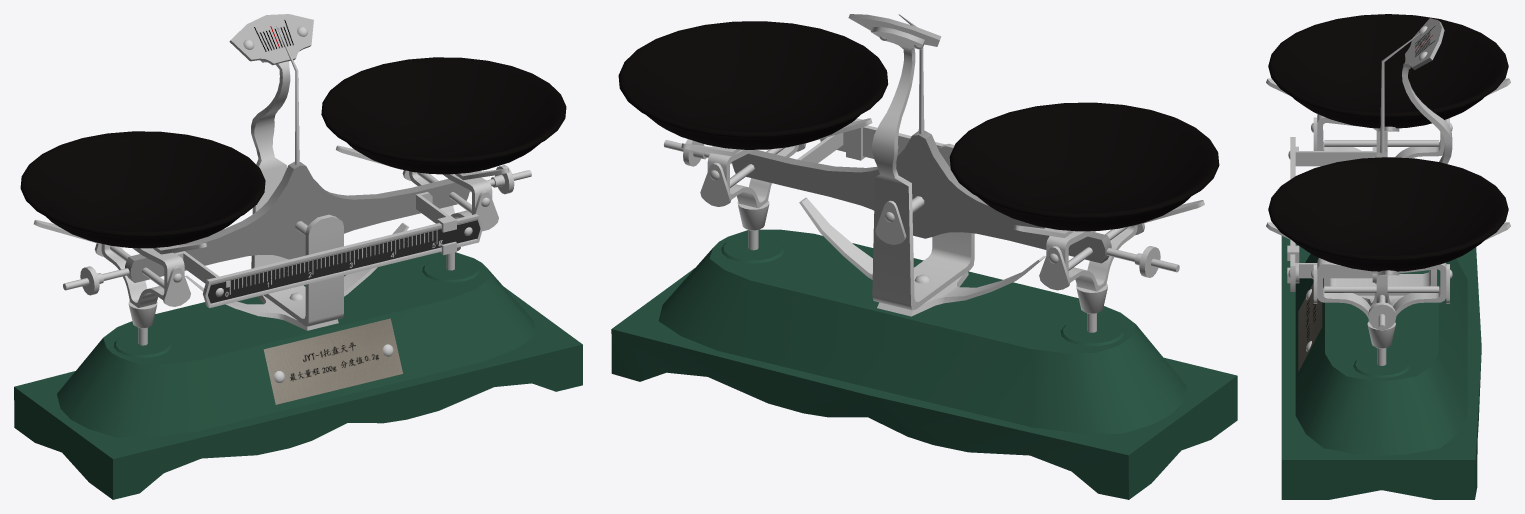
The model's file is balance.glb.
3 renders of one model, left to right at view 1: azimuth 30°, elevation 25°; view 2: azimuth 150°, elevation 25°; view 3: azimuth 270°, elevation 25°, orthographic. The views are drawn at different scales.
Visible parts, largest first — view 1: BalanceBaseDown_BalanceBaseDown_0, BalanceTrayRight_BalanceTray_0, BalanceTrayLeft_BalanceTray_0, BalanceMainPole_BalanceMainPoleMetal_0, BalanceBaseup_BalanceBaseMetal_0, BalanceBaseLabel_BalanceLabel_0, BalanceDialLabel_BalanceLabel_0, BalanceTrayHolderLeft_BalanceBaseMetal_0, BalanceDial_BalanceBaseMetal_0, BalanceDialUp, BalanceTrayHolderRight_BalanceBaseMetal_0, BalanceMainPolePart_BalanceBaseMetal_0; view 2: BalanceBaseDown_BalanceBaseDown_0, BalanceTrayLeft_BalanceTray_0, BalanceTrayRight_BalanceTray_0, BalanceBaseup_BalanceBaseMetal_0, BalanceMainPole_BalanceMainPoleMetal_0, BalanceTrayHolderLeft_BalanceBaseMetal_0, BalanceTrayHolderRight_BalanceBaseMetal_0, BalanceDialUp, BalanceMainPolePart_BalanceBaseMetal_0, BalanceDial_BalanceBaseMetal_0; view 3: BalanceBaseDown_BalanceBaseDown_0, BalanceTrayRight_BalanceTray_0, BalanceTrayLeft_BalanceTray_0, BalanceTrayHolderRight_BalanceBaseMetal_0, BalanceBaseup_BalanceBaseMetal_0, BalanceTrayHolderLeft_BalanceBaseMetal_0, BalanceMainPolePart_BalanceBaseMetal_0, BalanceBaseLabel_BalanceLabel_0, BalanceDialUp, BalanceDrumNutRight_BalanceBaseMetal_0, BalanceMainPole_BalanceMainPoleMetal_0, BalancePointer_BalanceBaseMetal_0 (+1 smaller).
Boxes of the visible parts, x1,y1,x2,y2 form: BalanceBaseDown_BalanceBaseDown_0: (14,252,582,499); BalanceTrayRight_BalanceTray_0: (321,57,566,174); BalanceTrayLeft_BalanceTray_0: (20,131,265,248); BalanceMainPole_BalanceMainPoleMetal_0: (125,161,469,282); BalanceBaseup_BalanceBaseMetal_0: (185,60,408,330); BalanceBaseLabel_BalanceLabel_0: (263,318,402,404); BalanceDialLabel_BalanceLabel_0: (208,220,480,303); BalanceTrayHolderLeft_BalanceBaseMetal_0: (34,220,207,345); BalanceDial_BalanceBaseMetal_0: (203,214,482,307); BalanceDialUp: (229,14,313,65); BalanceTrayHolderRight_BalanceBaseMetal_0: (336,145,509,270); BalanceMainPolePart_BalanceBaseMetal_0: (175,192,468,284); BalanceBaseDown_BalanceBaseDown_0: (611,229,1237,499); BalanceTrayLeft_BalanceTray_0: (949,102,1219,231); BalanceTrayRight_BalanceTray_0: (618,21,888,149); BalanceBaseup_BalanceBaseMetal_0: (799,27,1045,316); BalanceMainPole_BalanceMainPoleMetal_0: (732,130,1111,263); BalanceTrayHolderLeft_BalanceBaseMetal_0: (1013,200,1204,332); BalanceTrayHolderRight_BalanceBaseMetal_0: (681,118,872,250); BalanceDialUp: (848,14,941,46); BalanceMainPolePart_BalanceBaseMetal_0: (797,133,843,163); BalanceDial_BalanceBaseMetal_0: (820,125,945,158); BalanceBaseDown_BalanceBaseDown_0: (1281,236,1481,499); BalanceTrayRight_BalanceTray_0: (1268,157,1508,271); BalanceTrayLeft_BalanceTray_0: (1268,14,1508,128); BalanceTrayHolderRight_BalanceBaseMetal_0: (1266,222,1510,365); BalanceBaseup_BalanceBaseMetal_0: (1324,63,1452,306); BalanceTrayHolderLeft_BalanceBaseMetal_0: (1266,78,1510,158); BalanceMainPolePart_BalanceBaseMetal_0: (1295,146,1376,282); BalanceBaseLabel_BalanceLabel_0: (1298,283,1322,371); BalanceDialUp: (1405,18,1444,69); BalanceDrumNutRight_BalanceBaseMetal_0: (1368,302,1396,329); BalanceMainPole_BalanceMainPoleMetal_0: (1376,128,1387,302); BalancePointer_BalanceBaseMetal_0: (1380,31,1422,153).
Bounding box in the file's own units: 22.08 × 14.96 × 9.22.
Materials: 5 (1 with a texture image).
